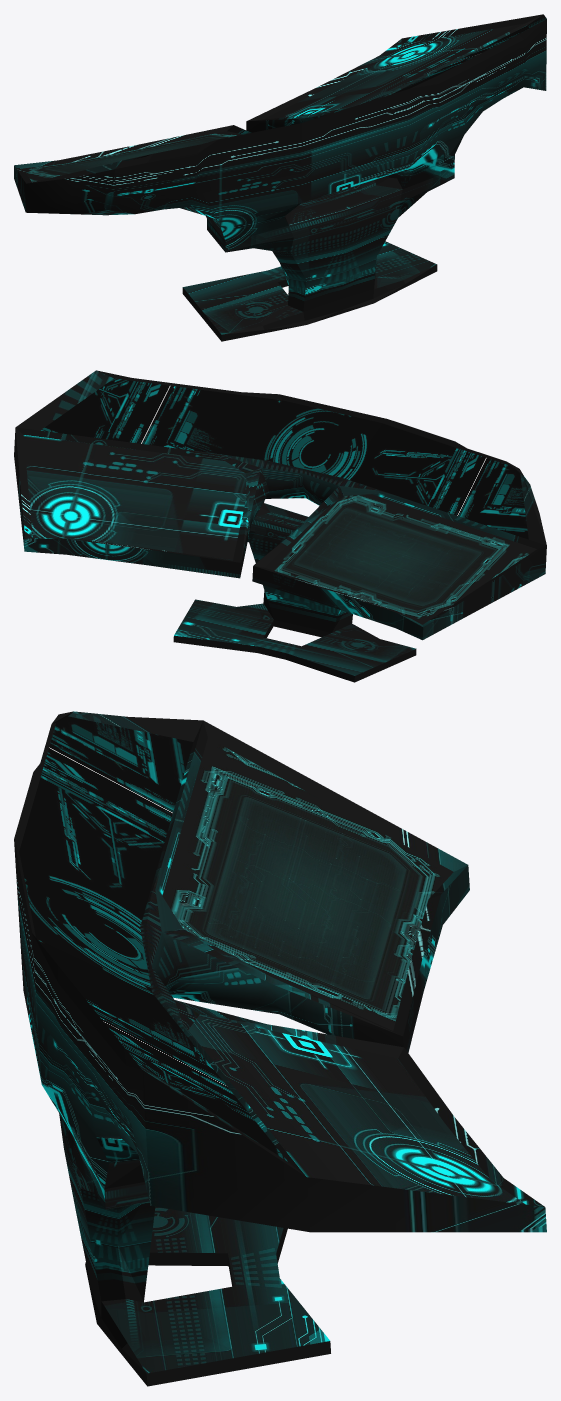
Rendered from monitorsci.glb.
3 renders of one model, top to bottom at view 1: azimuth 30°, elevation 25°; view 2: azimuth 150°, elevation 25°; view 3: azimuth 270°, elevation 25°, orthographic. The views are drawn at different scales.
Parts seen in each view (by area): view 1: MaterialFBXASC032FBXASC0352142150880; view 2: MaterialFBXASC032FBXASC0352142150880; view 3: MaterialFBXASC032FBXASC0352142150880.
Boxes of the visible parts, <box> form: MaterialFBXASC032FBXASC0352142150880: <box>14,14,546,341</box>; MaterialFBXASC032FBXASC0352142150880: <box>14,370,546,682</box>; MaterialFBXASC032FBXASC0352142150880: <box>14,711,546,1386</box>.
Size of the model in its own units: 3.57 by 1.46 by 1.66.
Materials: 4 (4 with a texture image).
